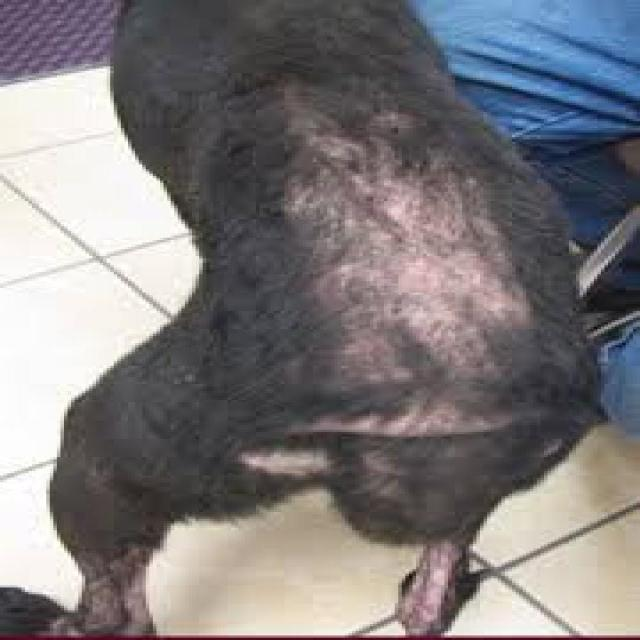allergic dermatitis: (271, 101, 530, 397)
